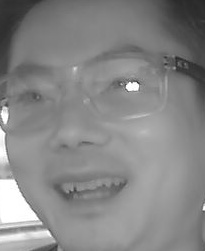glass: (78, 54, 170, 119), (1, 68, 71, 135)
mouth: (46, 168, 127, 211)
